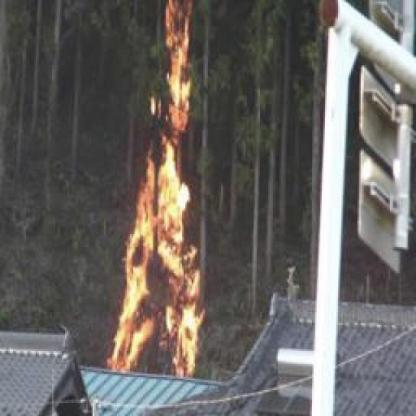fire: (110, 2, 210, 381)
